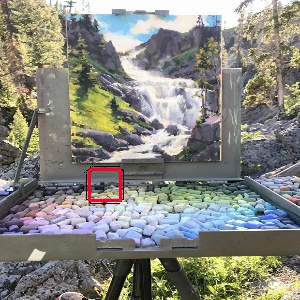square: (86, 165, 124, 203)
